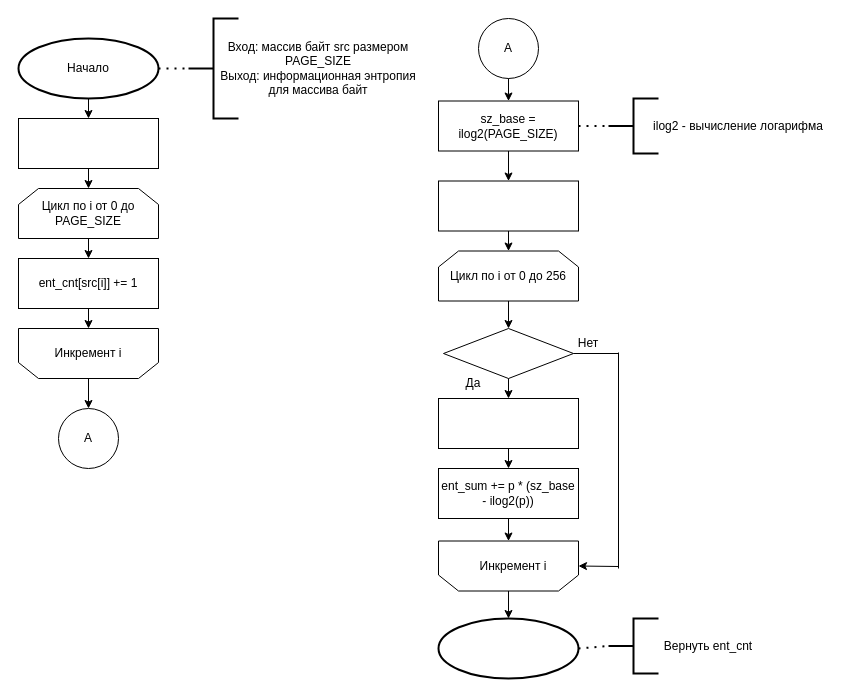
The diagram is 855 pixels wide and 696 high, and some of its shapes have lost their labels. The centre of each missing label's shape, as x and y in pixels:
ent_cnt[i] > 0 ?: (508,353)
ent_sum = 0: (508,205)
p = ent_cnt[i]: (508,423)
Инициализировать массив ent_cnt[256] нулями: (88,143)
Конец: (508,648)
